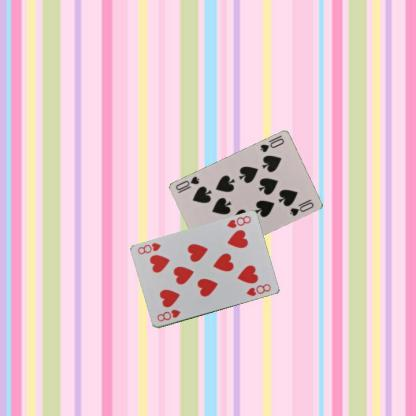10s: (257, 136, 286, 154)
8h: (154, 307, 182, 323), (224, 214, 252, 230)
